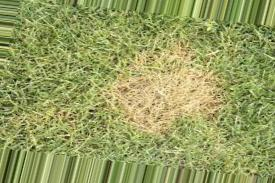patch: (131, 66, 200, 115), (102, 76, 136, 107), (42, 108, 77, 125), (144, 119, 162, 133), (204, 72, 210, 113)
